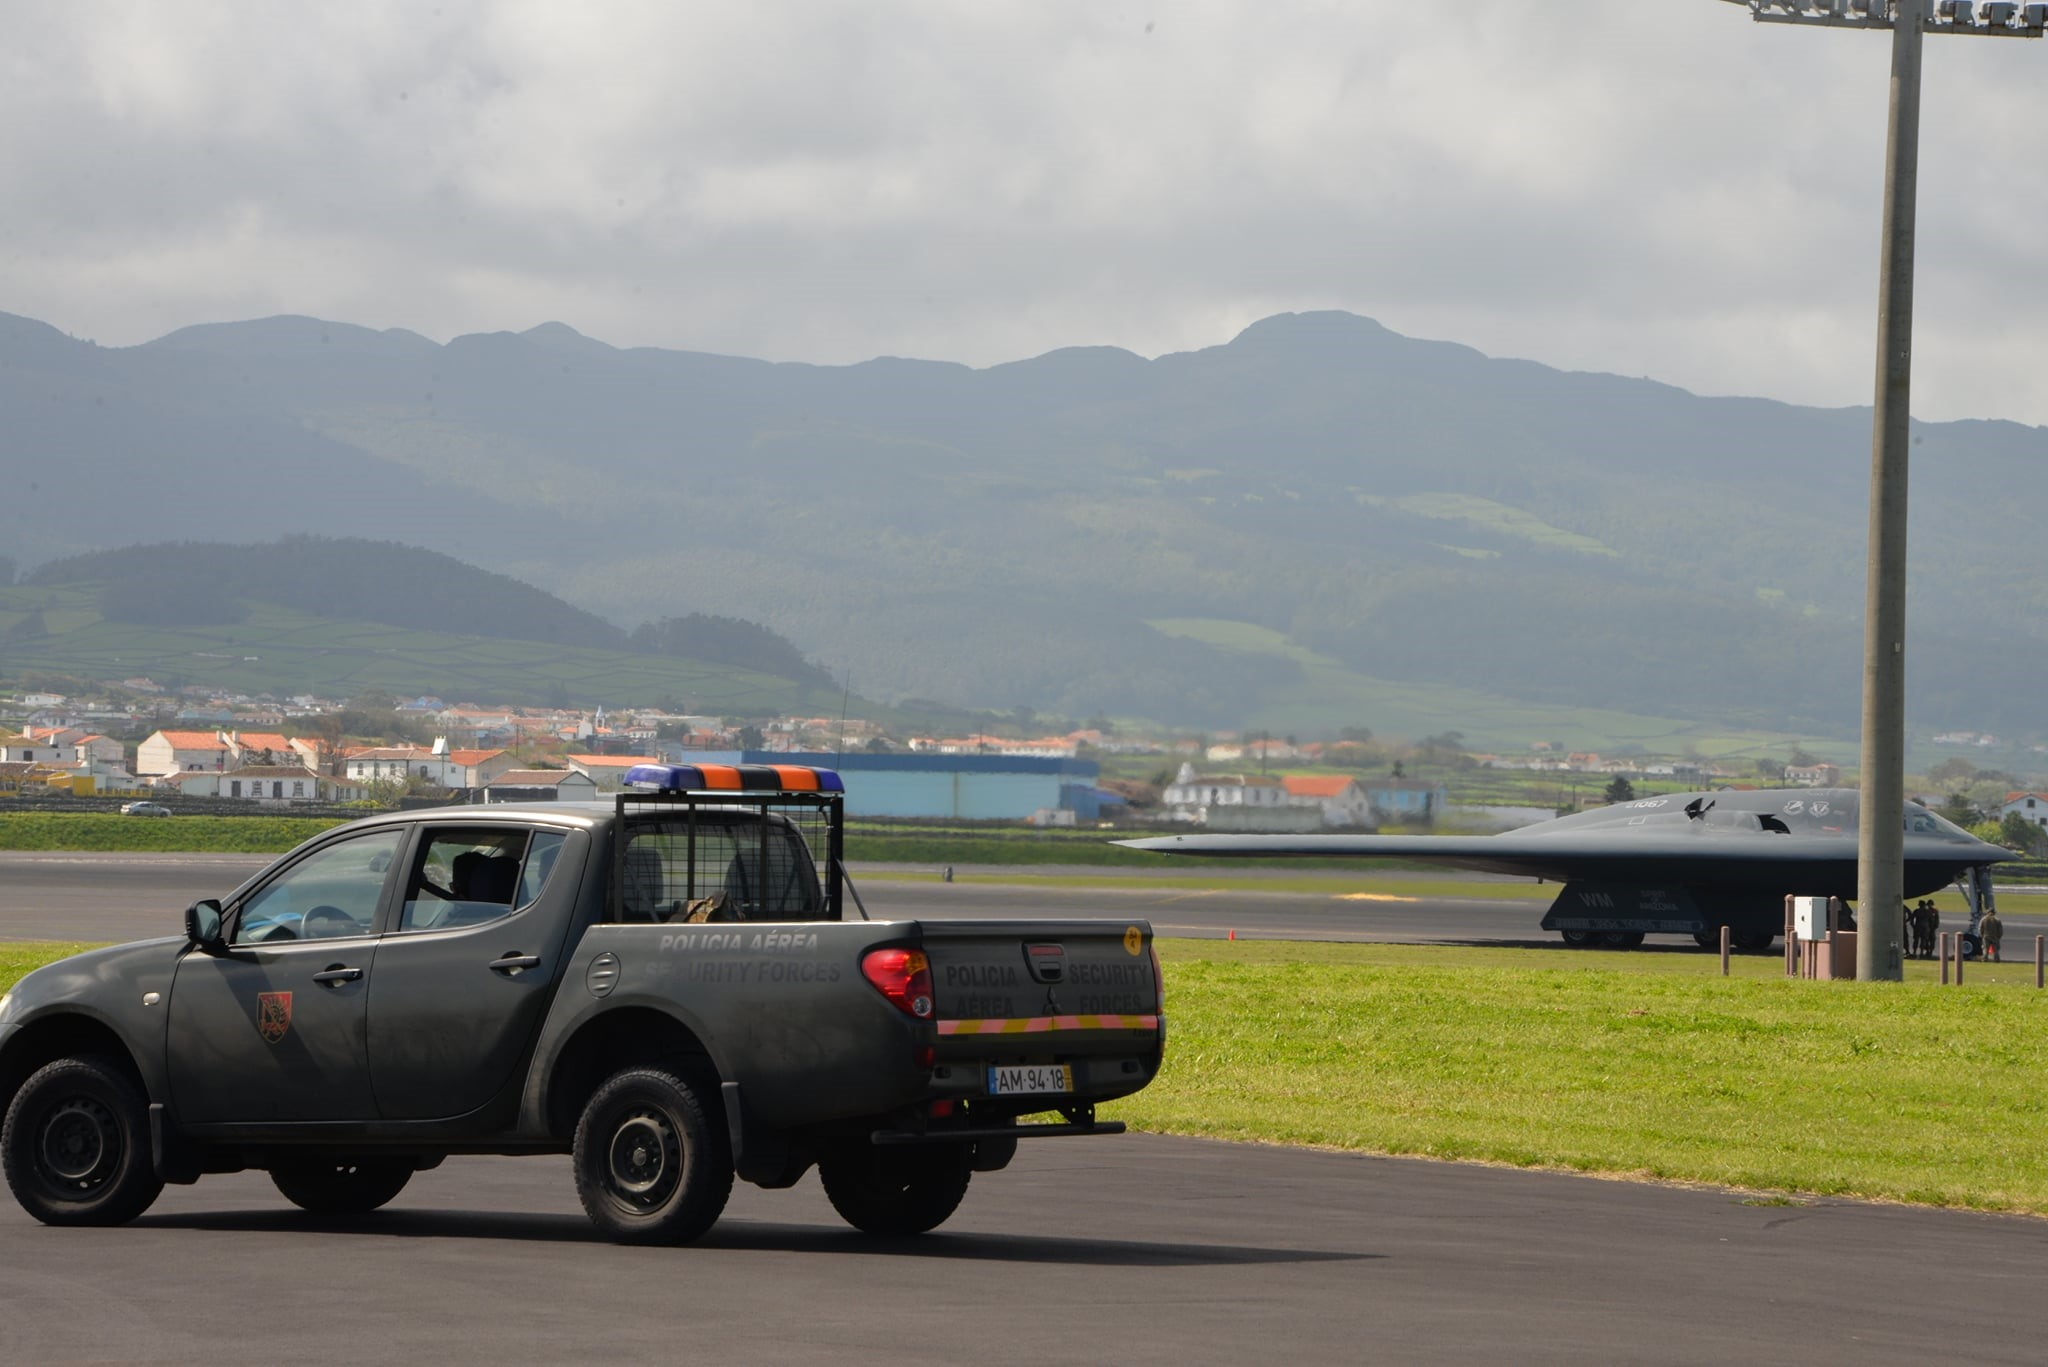B2: (1106, 787, 2021, 958)
